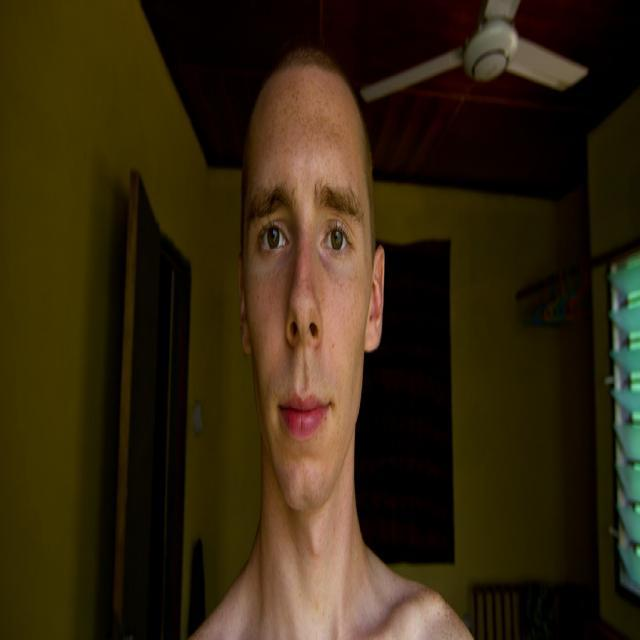fan_off: (366, 0, 589, 104)
